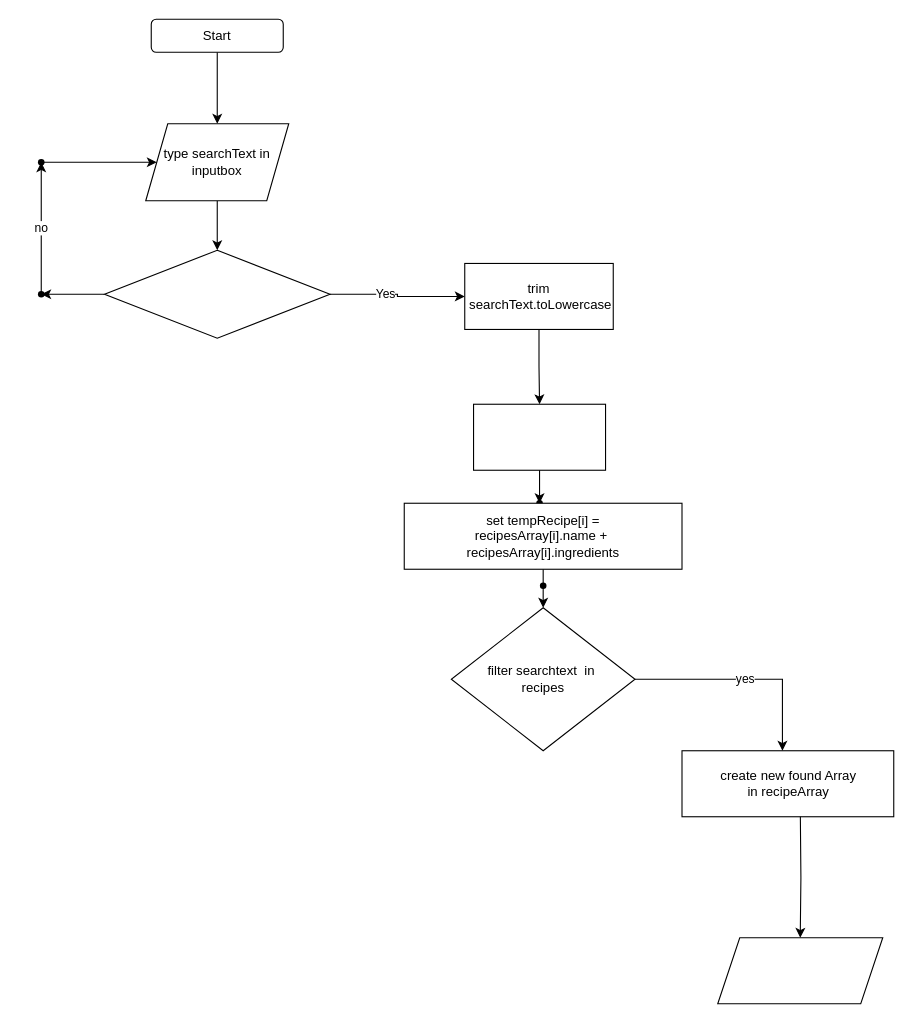
The diagram is 913 pixels wide and 1023 high, and some of its shapes have lost their labels. Each missing label, with the centre of its shape:
"forEach array" goes at point (539, 436).
"Show foundRecipe in the webpage" goes at point (800, 970).
"validation searchText > 3 charactor" goes at point (216, 293).
